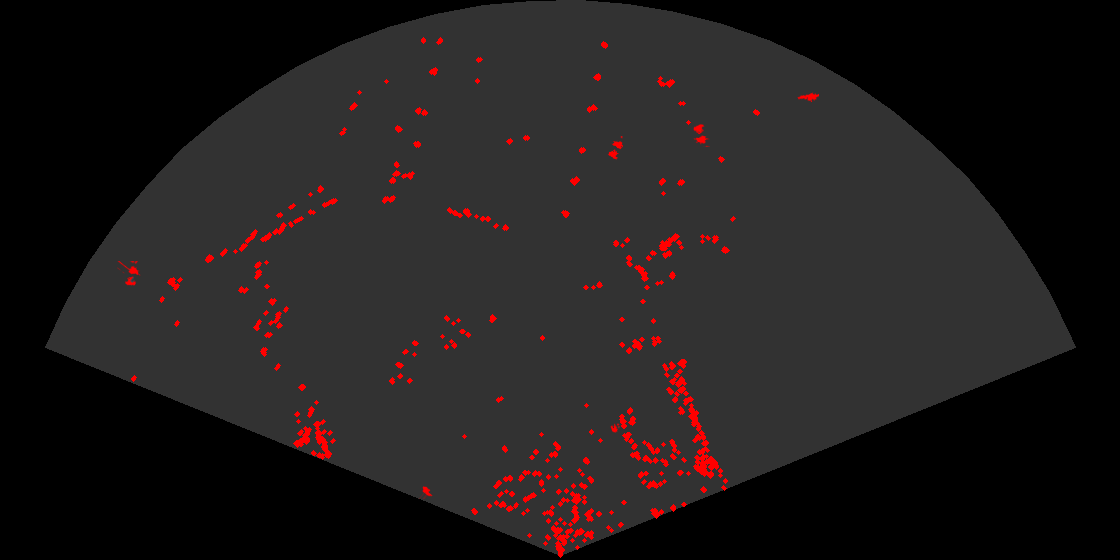AUV: (418, 485, 434, 499)
ball: (609, 422, 621, 434)
cage: (117, 261, 142, 287), (692, 123, 710, 147), (606, 136, 623, 161)
frogman: (796, 91, 819, 104)
